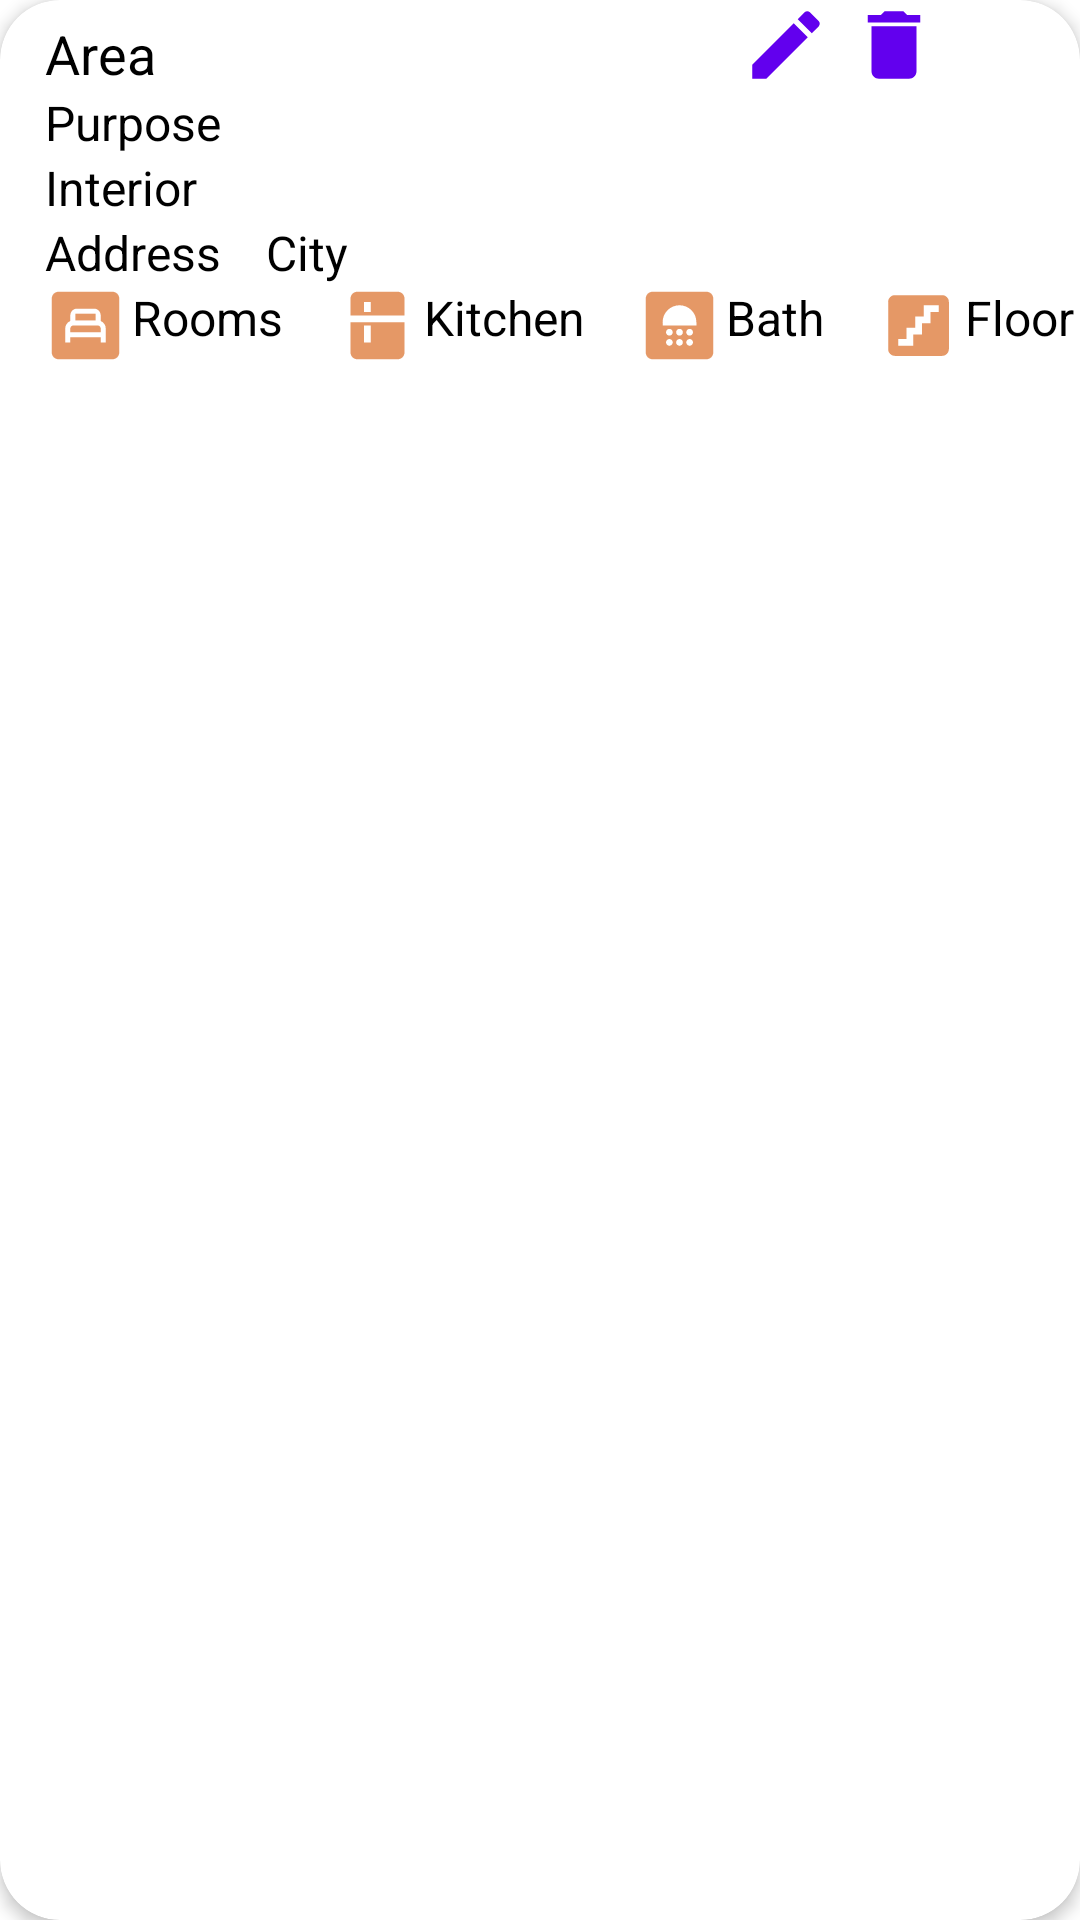

Icon click points for this 1080 × 1920 phone screenshot, format (x,y):
bedroom child: (85,325)
delete: (894,45)
edit: (786,45)
stairs: (918,325)
